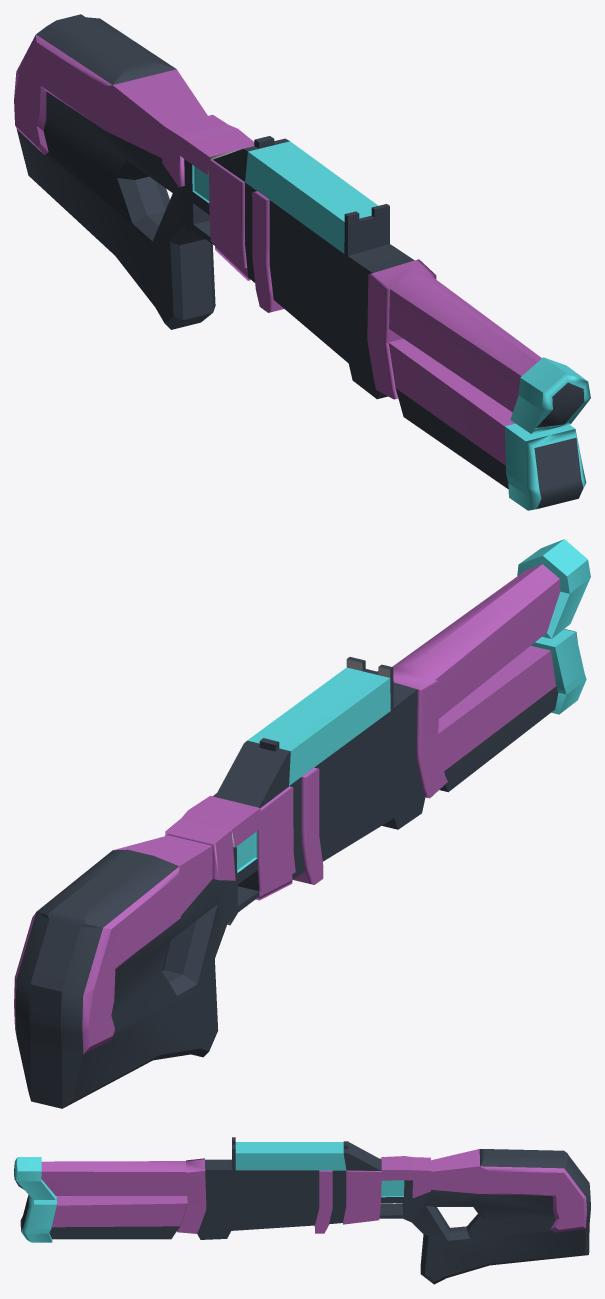
File: Rifle.fbx
The picture shows the model from 3 angles, top to bottom: view 1: azimuth 30°, elevation 25°; view 2: azimuth 150°, elevation 25°; view 3: azimuth 270°, elevation 25°; orthographic projection. The views are drawn at different scales.
Parts seen in each view (by area): view 1: Rifle; view 2: Rifle; view 3: Rifle.
Part boxes in pixels (<box>): Rifle: <box>14,14,590,510</box>; Rifle: <box>14,539,590,1108</box>; Rifle: <box>14,1137,590,1284</box>.
Size of the model in its own units: 7.92 by 25.09 by 95.03.
